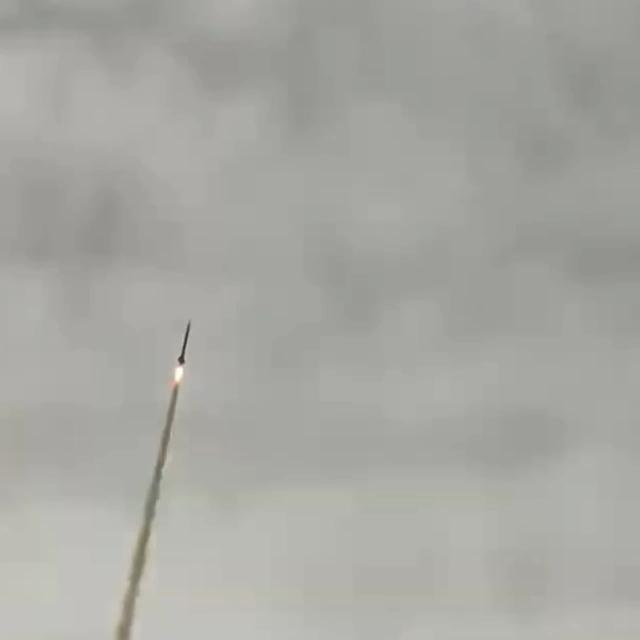smoke_trail_with_rocket: (112, 321, 192, 640)
